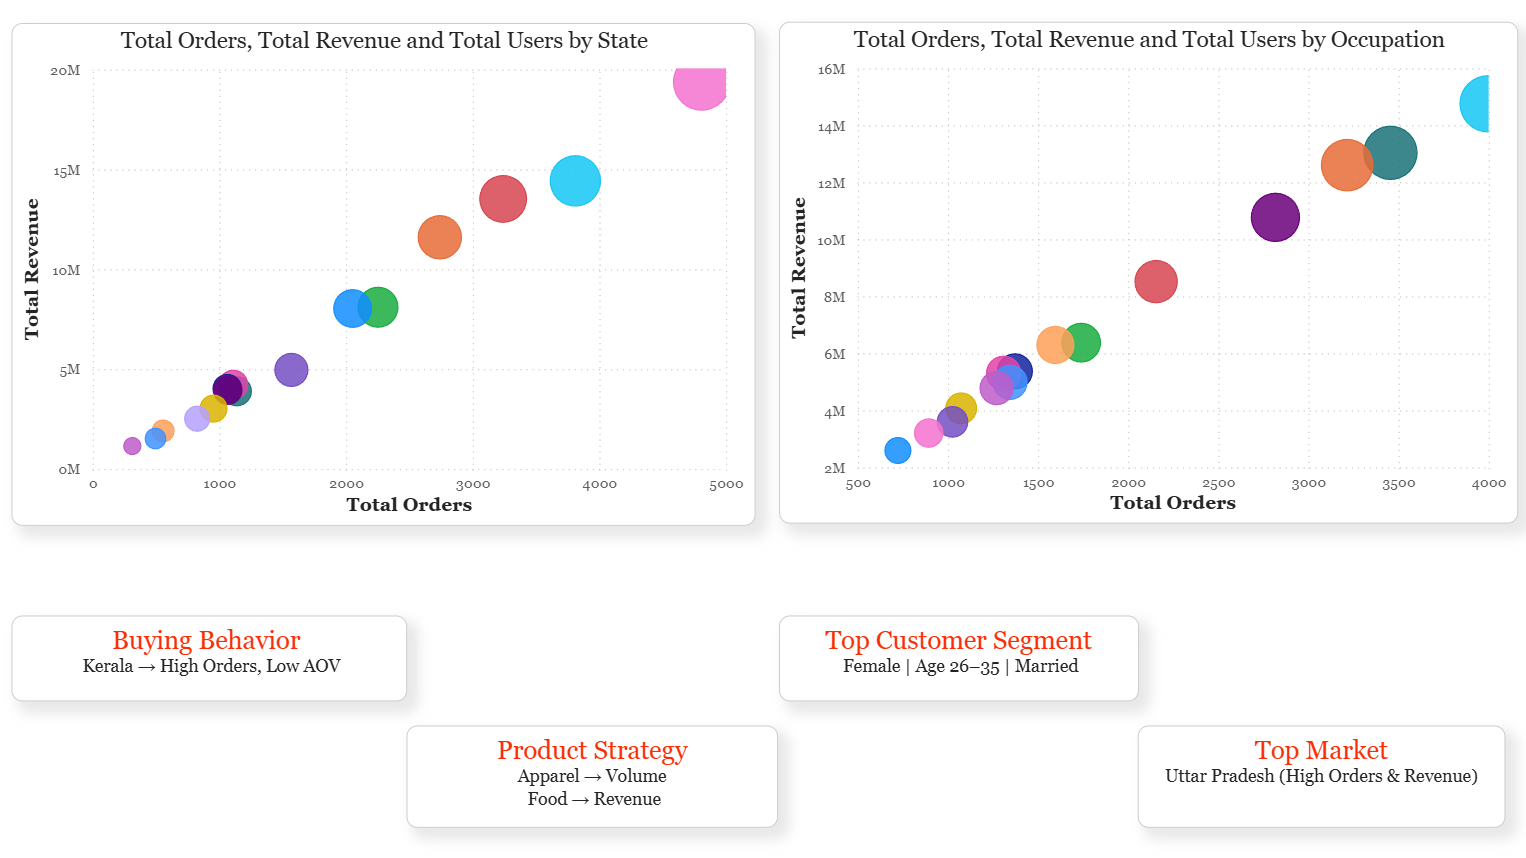

What the dashboard file says about the page in this screenshot:
{"tool":"powerbi","page":{"name":"Page 3","canvas":[1280,720],"ordinal":2},"visuals":[{"type":"scatterChart","title":"Total Orders, Total Revenue and Total Users by State","fields":{"X":["Diwali Sales Data.Total Orders"],"Y":["Diwali Sales Data.Total Revenue"],"Size":["CountNonNull(Diwali Sales Data.User_ID)"],"Series":["Diwali Sales Data.State"]},"box":[22.8,24.9,616.6,416.6],"z":1000},{"type":"scatterChart","title":"Total Orders, Total Revenue and Total Users by Occupation","fields":{"X":["Diwali Sales Data.Total Orders"],"Y":["Diwali Sales Data.Total Revenue"],"Series":["Diwali Sales Data.Occupation"],"Size":["CountNonNull(Diwali Sales Data.User_ID)"]},"box":[658.8,23.8,612.5,416.2],"z":2000},{"type":"textbox","box":[658.8,515.9,298.1,71.5],"z":4000},{"type":"textbox","box":[957,607.4,304.8,84.9],"z":5000},{"type":"textbox","box":[22.3,515.9,328.3,71.5],"z":6000},{"type":"textbox","box":[350.6,607.4,308.2,84.9],"z":7000}]}

Visuals, with their boxes in screenshot pixels (x1, y1, x2, y2), scaled from the page's 1280x720 canvas onto the 1526x858 screenshot:
"Total Orders, Total Revenue and Total Users by State" scatterChart: bbox=(27, 30, 762, 526)
"Total Orders, Total Revenue and Total Users by Occupation" scatterChart: bbox=(785, 28, 1516, 524)
textbox: bbox=(785, 615, 1141, 700)
textbox: bbox=(1141, 724, 1504, 825)
textbox: bbox=(27, 615, 418, 700)
textbox: bbox=(418, 724, 785, 825)
